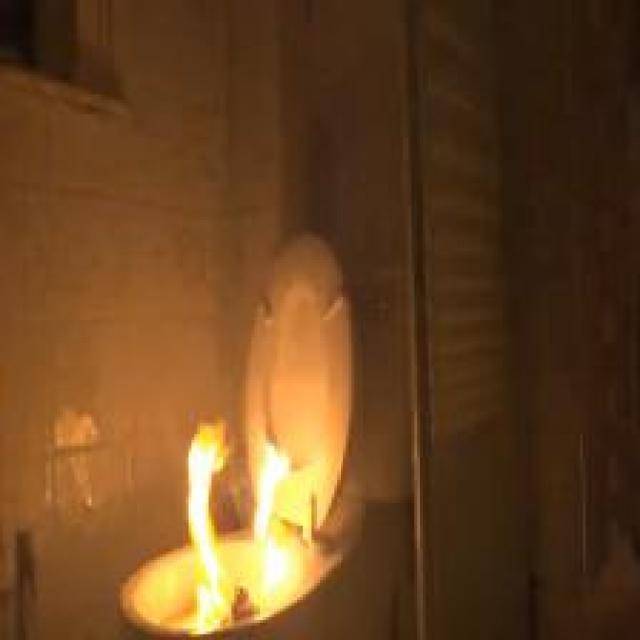Fire: (180, 422, 227, 638), (249, 448, 300, 590)
